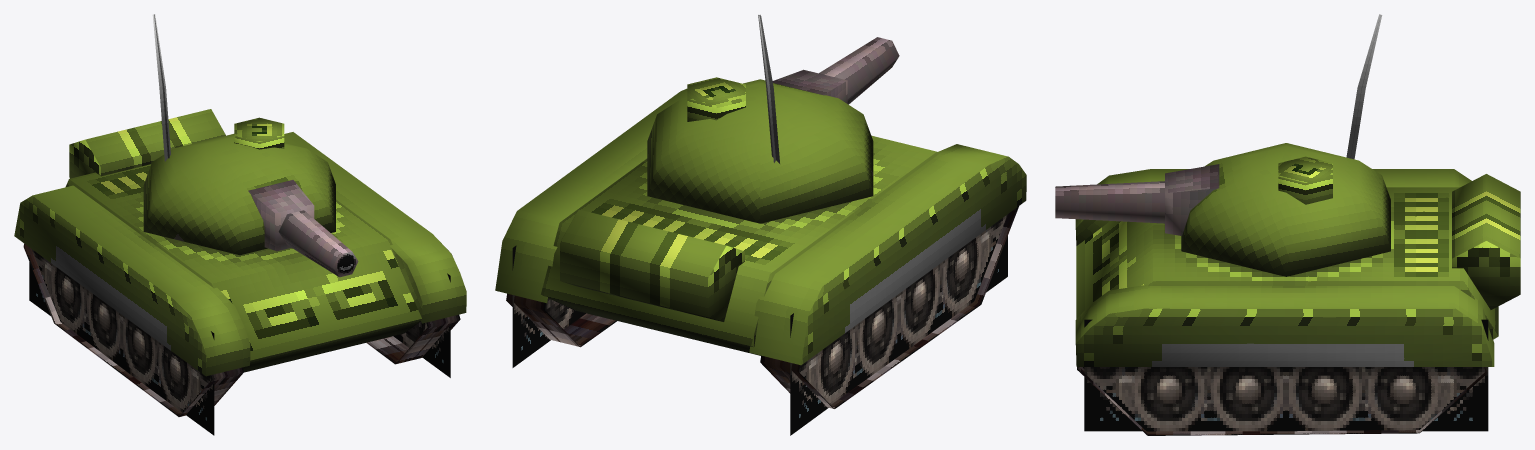
The model's file is light_tank.glb.
3 renders of one model, left to right at view 1: azimuth 30°, elevation 25°; view 2: azimuth 150°, elevation 25°; view 3: azimuth 270°, elevation 25°, orthographic. The views are drawn at different scales.
Visible parts, largest first — view 1: Hull, Turret, Wheels_R, Barrel, Track_R, Track_L, Wheels_L; view 2: Hull, Turret, Wheels_R, Track_R, Barrel, Track_L, Wheels_L; view 3: Hull, Wheels_L, Turret, Barrel, Track_L.
Boxes of the visible parts, x1=… form: Hull: x1=14, y1=109, x2=466, y2=376; Turret: x1=143, y1=14, x2=335, y2=255; Wheels_R: x1=29, y1=249, x2=214, y2=435; Barrel: x1=278, y1=210, x2=358, y2=277; Track_R: x1=23, y1=243, x2=243, y2=416; Track_L: x1=366, y1=314, x2=460, y2=364; Wheels_L: x1=393, y1=273, x2=450, y2=377; Hull: x1=495, y1=88, x2=1026, y2=365; Turret: x1=647, y1=14, x2=873, y2=223; Wheels_R: x1=790, y1=214, x2=1007, y2=435; Track_R: x1=760, y1=206, x2=1018, y2=408; Barrel: x1=819, y1=37, x2=899, y2=104; Track_L: x1=506, y1=293, x2=616, y2=347; Wheels_L: x1=512, y1=245, x2=585, y2=367; Hull: x1=1075, y1=169, x2=1520, y2=366; Wheels_L: x1=1084, y1=319, x2=1488, y2=431; Turret: x1=1165, y1=14, x2=1390, y2=276; Barrel: x1=1055, y1=181, x2=1164, y2=223; Track_L: x1=1077, y1=367, x2=1486, y2=435.
Bounding box in the file's own units: 1.92 × 2.15 × 2.72.
4 materials, 4 textured.
